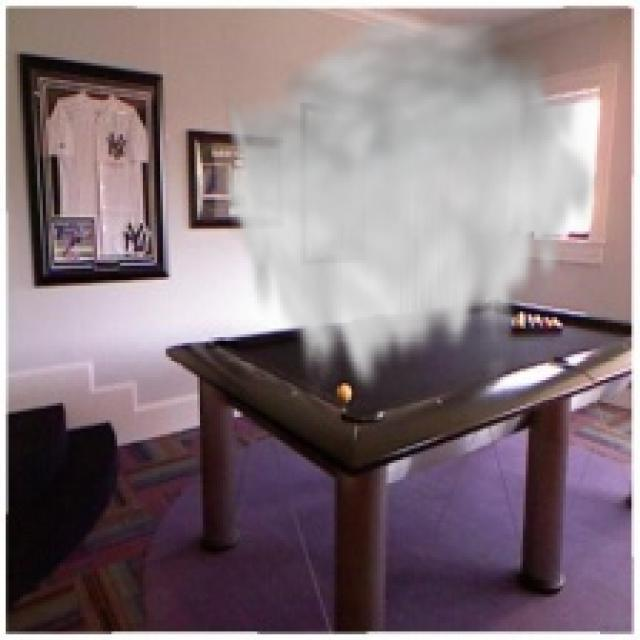Smoke: (220, 6, 600, 403)
